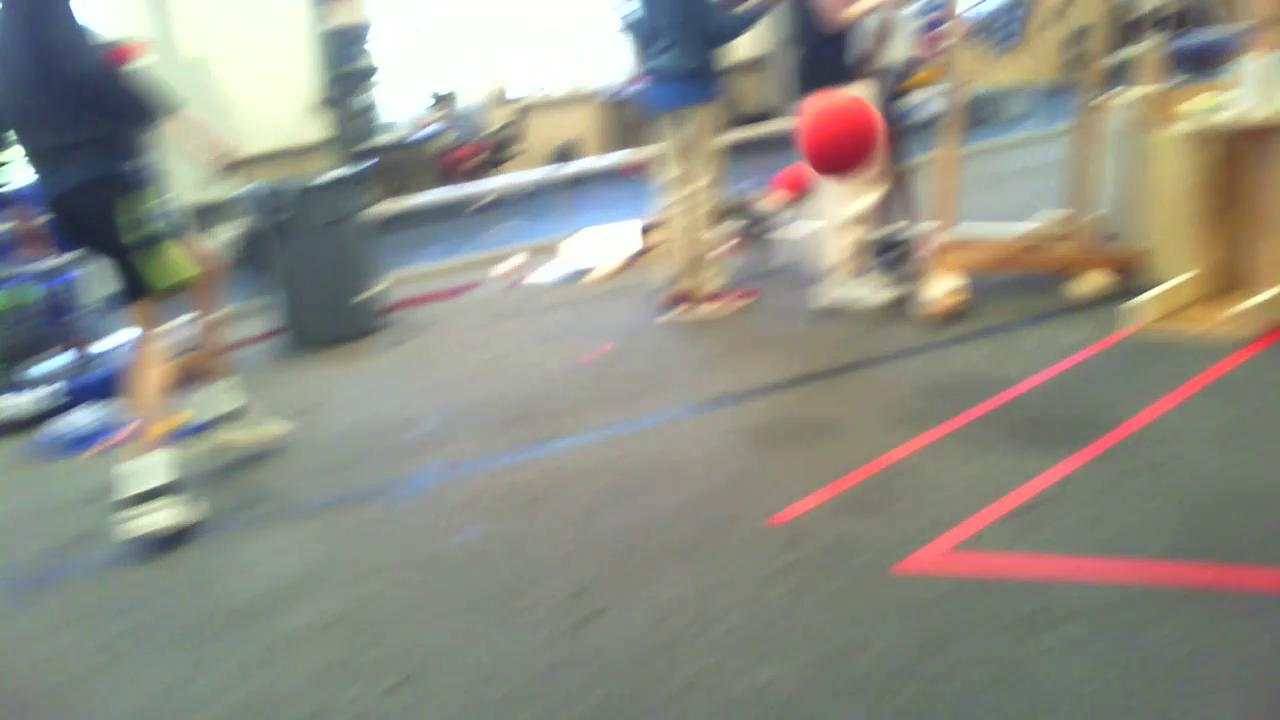Red_Ball: (791, 88, 885, 177)
